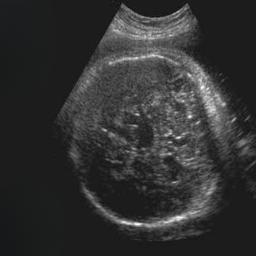abnormal: (66, 49, 230, 230)
